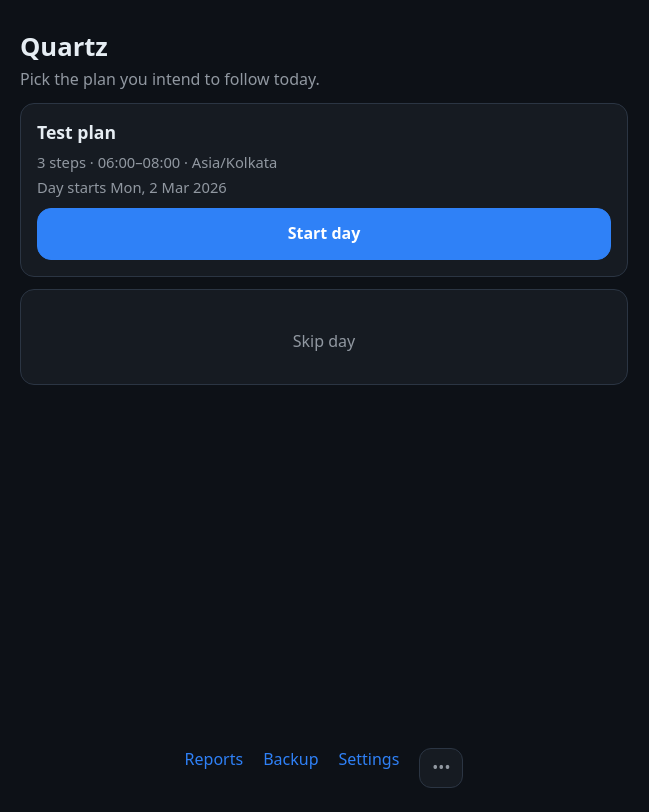
it: active run screen › closes the overflow menu when the user taps outside it
The width and height of the screenshot is (649, 812).
Click the button "Start day" at (324, 234), box [37,208,611,260]
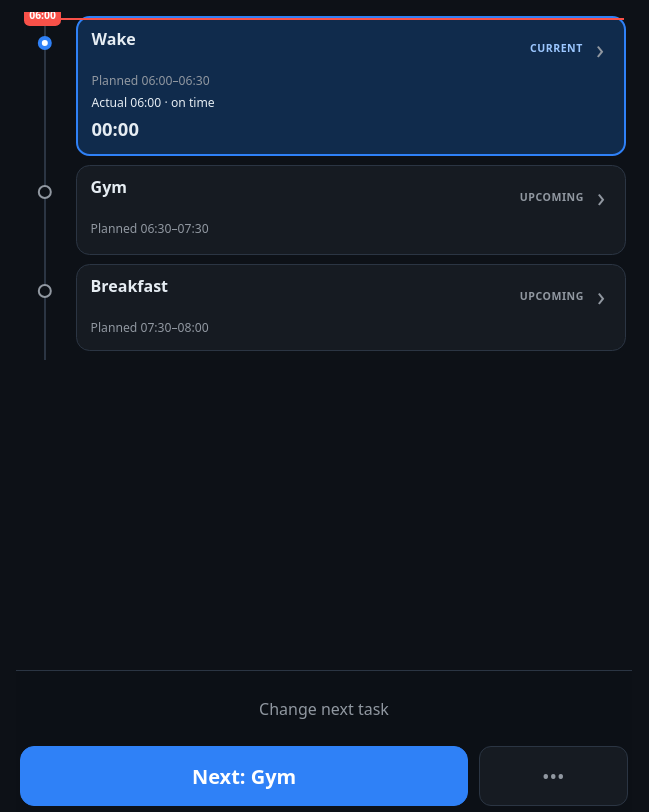
Expected: the heading "Wake" is shown, [92,28,136,50]
Click the button named "More actions" at (553, 776), box [479,746,628,806]
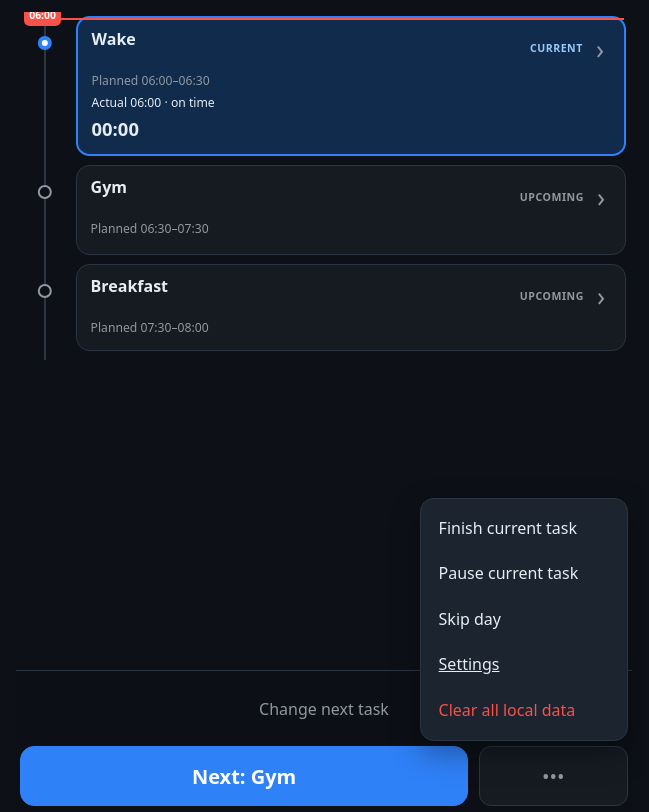
Expected: the button "Finish current task" is shown, [427,506,621,551]
Click the element named "Timetable day" at (335, 188), box [44,16,626,360]
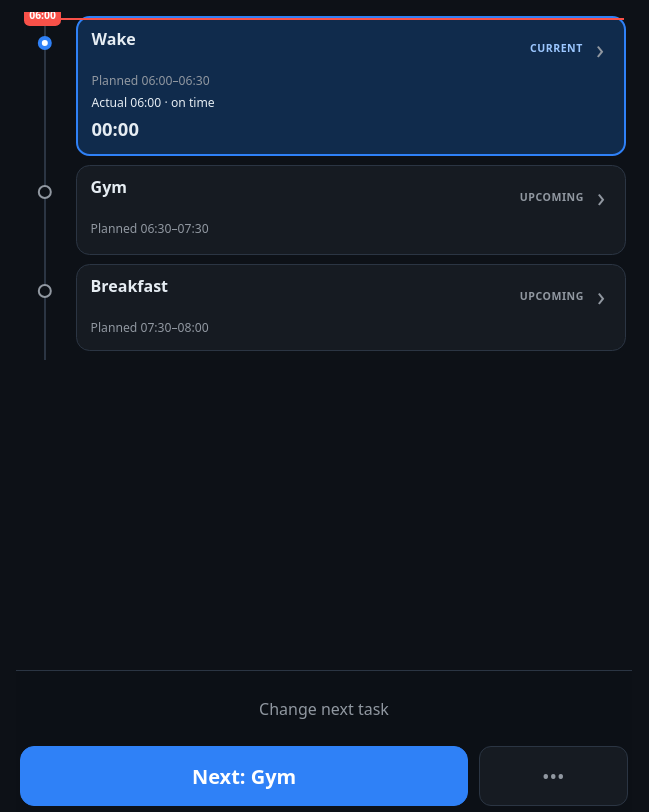
Expected: the button "Finish current task" is gone
